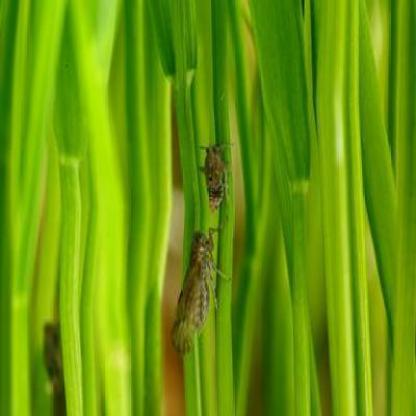brown-planthopper: (170, 229, 220, 356), (202, 142, 228, 212)
